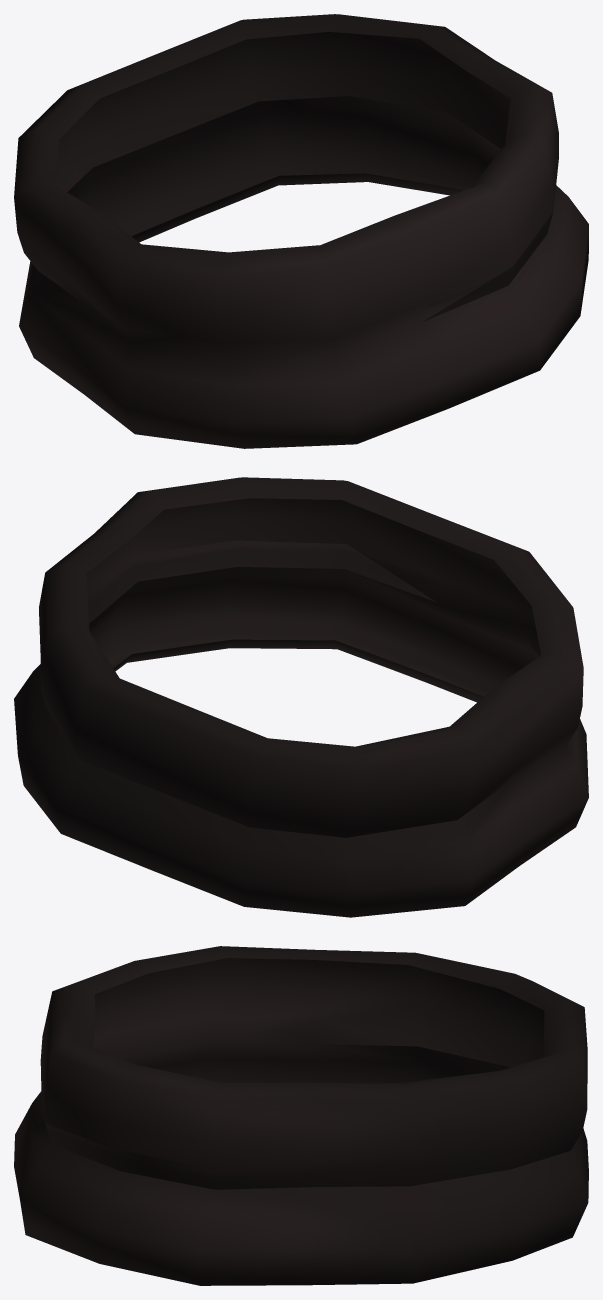
File: glove L.obj
The picture shows the model from 3 angles, top to bottom: view 1: azimuth 30°, elevation 25°; view 2: azimuth 150°, elevation 25°; view 3: azimuth 270°, elevation 25°; orthographic projection.
Parts seen in each view (by area): view 1: glove_L; view 2: glove_L; view 3: glove_L.
Boxes of the visible parts, <box> form: glove_L: <box>14,14,588,448</box>; glove_L: <box>14,477,588,917</box>; glove_L: <box>14,946,588,1285</box>.
Bounding box in the file's own units: 0.8795 × 0.4393 × 0.9203.
